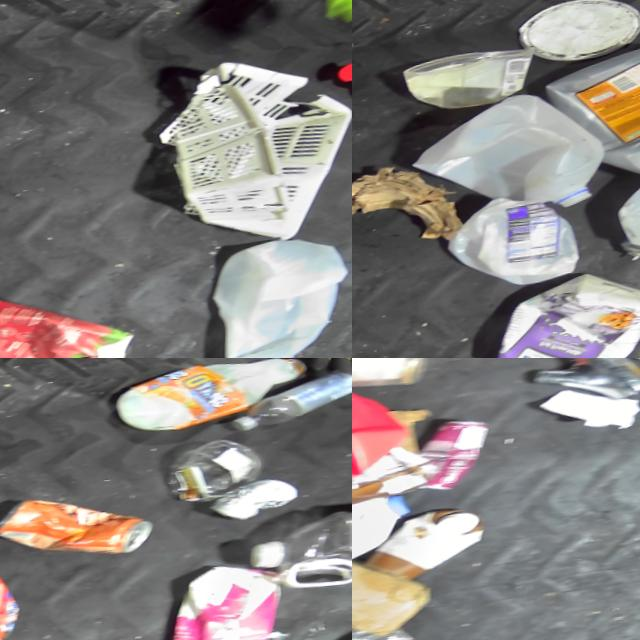can: (0, 489, 157, 573), (441, 431, 493, 498)
milk_jug: (412, 88, 614, 229), (221, 246, 352, 358), (452, 200, 589, 296), (352, 487, 416, 596)
non_white_jug: (542, 37, 640, 188), (0, 289, 144, 358), (511, 290, 632, 358), (352, 388, 404, 513)
plastic_bottle: (221, 377, 352, 452)
